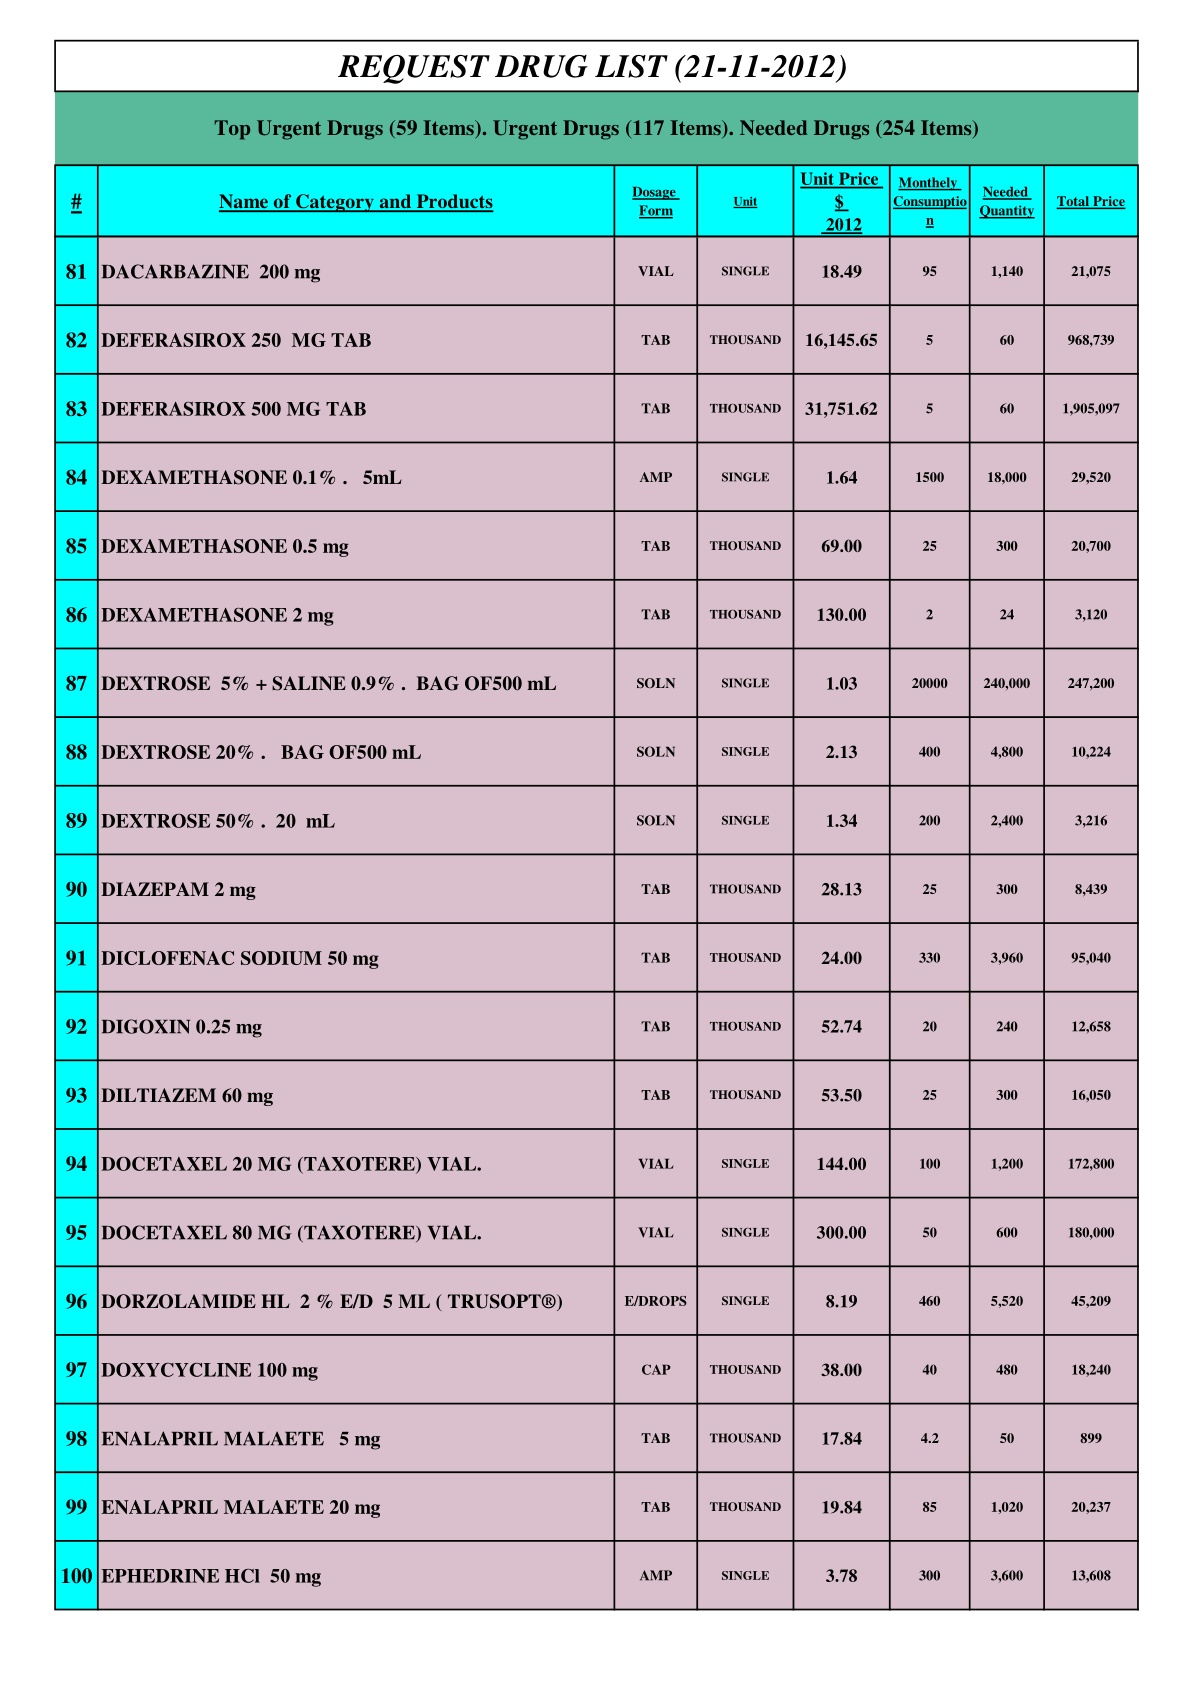merged_cells: (52, 37, 1141, 1611)
